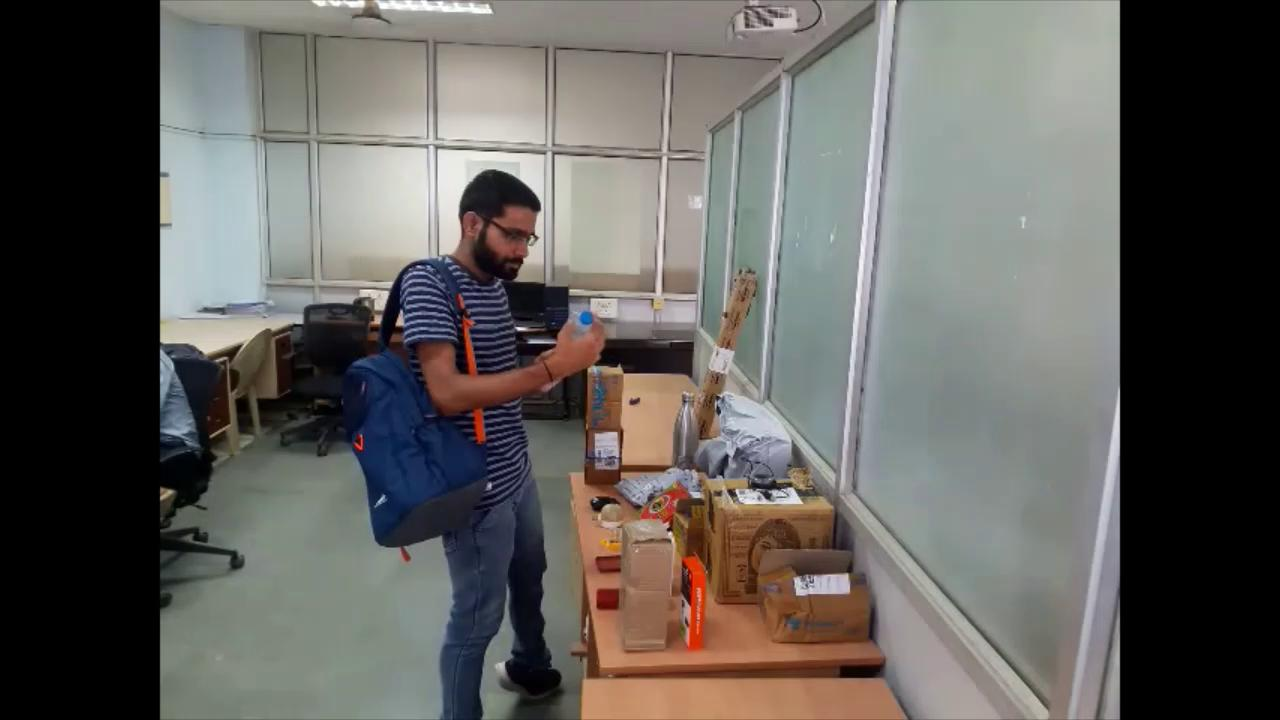Normal: (349, 168, 620, 720)
